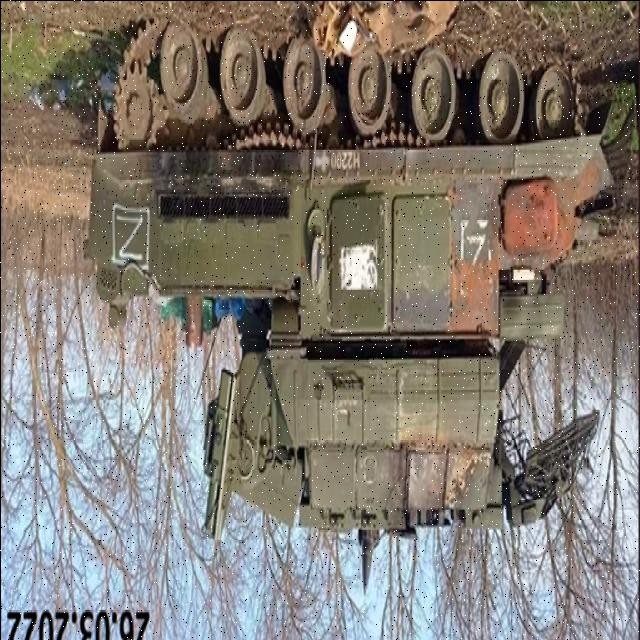MLRS: (84, 15, 624, 558)
